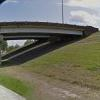Bridge: (0, 13, 91, 48)
